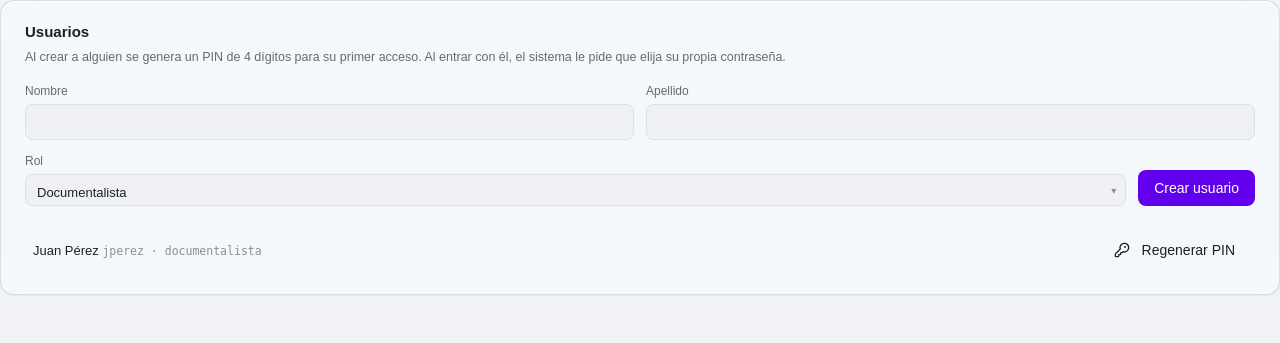
Scenario: UsersCard › adelanta el usuario que se va a generar mientras se escribe
Check: the text "Juan Pérez" is shown, box [33,242,99,258]
Step 1. Type "Yván" into the field labelled "Nombre" → (330, 122), box [25,104,634,140]
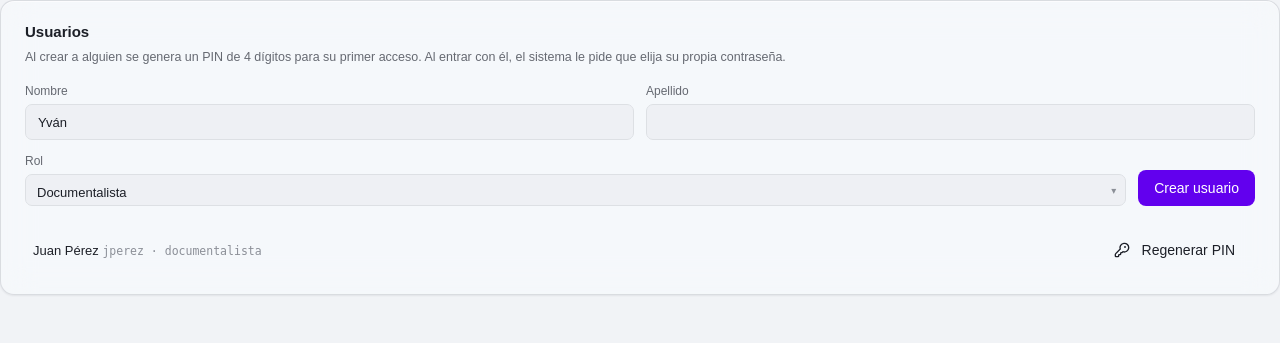
Step 2. Type "Núñez" into the field labelled "Apellido" → (950, 122), box [646,104,1255,140]
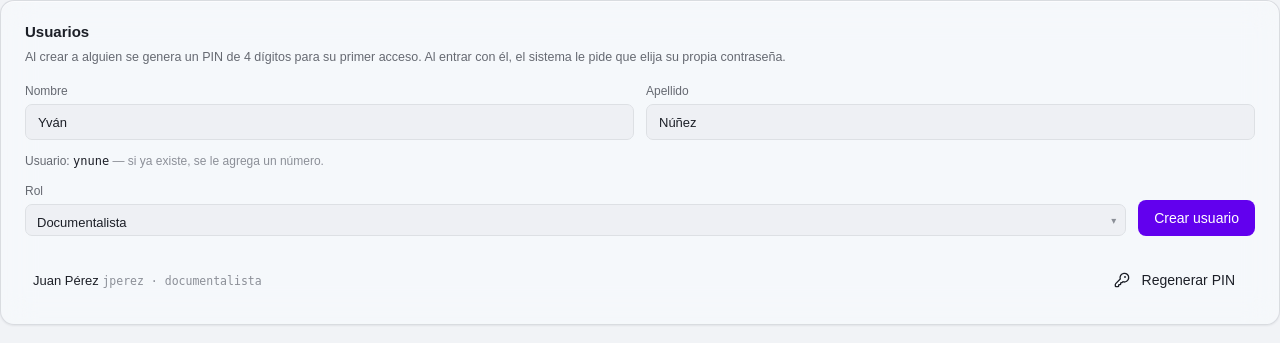
Check: the text "ynune" is shown, box [73,154,109,168]
